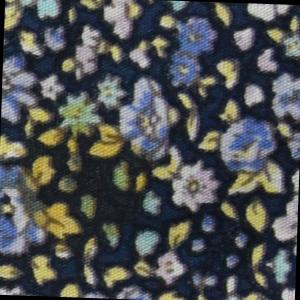Stain: (11, 81, 187, 275)
